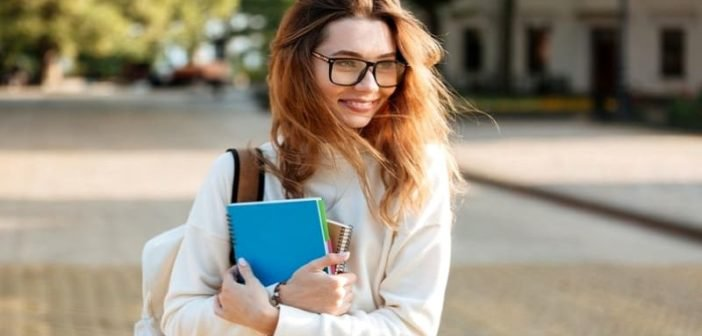noMask: (276, 2, 439, 147)
